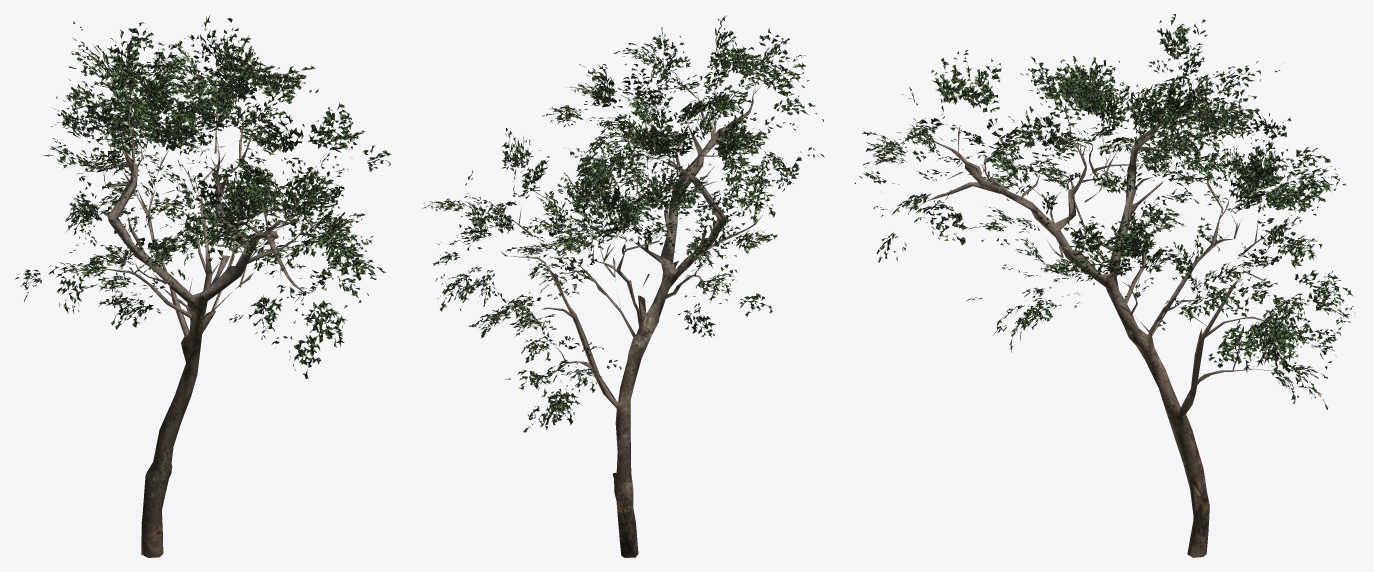
Rendered from tree_small_02.glb.
3 views of the same model, side by side, from view 1: azimuth 30°, elevation 25°; view 2: azimuth 150°, elevation 25°; view 3: azimuth 270°, elevation 25° (orthographic). The views are drawn at different scales.
Parts seen in each view (by area): view 1: tree_small_02_LOD0; view 2: tree_small_02_LOD0; view 3: tree_small_02_LOD0.
Boxes of the visible parts, x1,y1,x2,y2 form: tree_small_02_LOD0: (15, 15, 390, 557); tree_small_02_LOD0: (422, 15, 824, 557); tree_small_02_LOD0: (854, 14, 1355, 557).
Bounding box in the file's own units: 2.88 × 4.55 × 4.16.
Materials: 3 (3 with a texture image).
